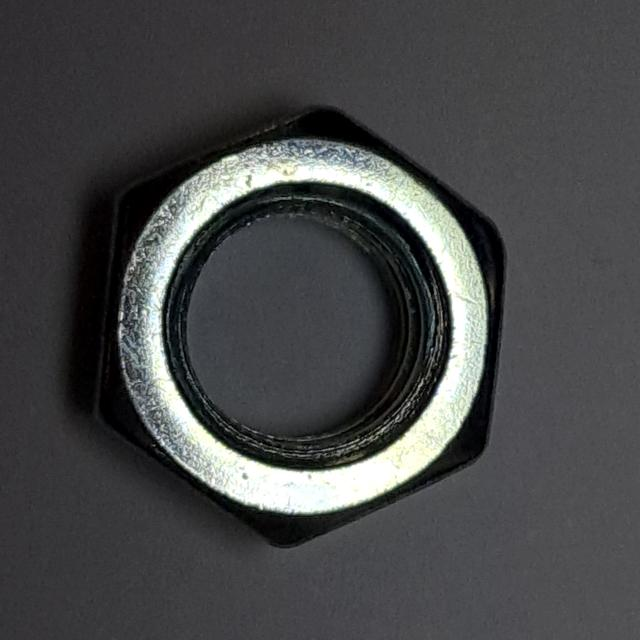Excellent: (78, 68, 519, 561)
